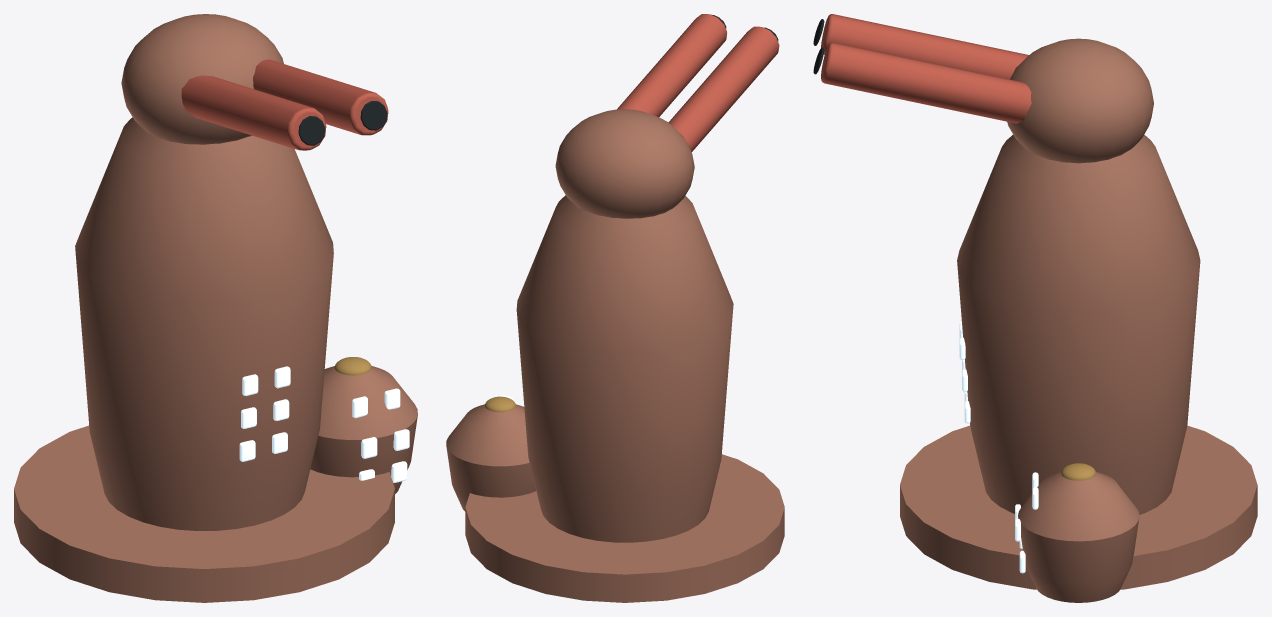
3 renders of one model, left to right at view 1: azimuth 30°, elevation 25°; view 2: azimuth 150°, elevation 25°; view 3: azimuth 270°, elevation 25°, orthographic. The views are drawn at different scales.
Visible parts, largest first — view 1: Bulb shaped chamber, Foundation drum, Weapon pivot, Bulb shaped chamber.001, Weapon barrel, Weapon barrel.001, Weapon dark bore.001, Weapon dark bore, Tower crown.001; view 2: Bulb shaped chamber, Foundation drum, Weapon pivot, Bulb shaped chamber.001, Weapon barrel, Weapon barrel.001; view 3: Bulb shaped chamber, Foundation drum, Weapon pivot, Bulb shaped chamber.001, Weapon barrel.001, Weapon barrel.
Boxes of the visible parts, bbox=[...] form: Bulb shaped chamber: bbox=[75, 117, 333, 530]; Foundation drum: bbox=[14, 425, 394, 602]; Weapon pivot: bbox=[121, 14, 283, 144]; Bulb shaped chamber.001: bbox=[310, 366, 417, 493]; Weapon barrel: bbox=[181, 75, 326, 150]; Weapon barrel.001: bbox=[253, 59, 388, 135]; Weapon dark bore.001: bbox=[360, 101, 387, 130]; Weapon dark bore: bbox=[298, 116, 325, 145]; Tower crown.001: bbox=[334, 357, 371, 375]; Bulb shaped chamber: bbox=[516, 195, 733, 542]; Foundation drum: bbox=[465, 454, 784, 602]; Weapon pivot: bbox=[555, 109, 694, 218]; Bulb shaped chamber.001: bbox=[446, 404, 536, 511]; Weapon barrel: bbox=[668, 26, 779, 151]; Weapon barrel.001: bbox=[617, 14, 727, 116]; Bulb shaped chamber: bbox=[957, 134, 1200, 514]; Foundation drum: bbox=[900, 425, 1257, 589]; Weapon pivot: bbox=[1007, 38, 1153, 163]; Bulb shaped chamber.001: bbox=[1018, 471, 1139, 602]; Weapon barrel.001: bbox=[821, 42, 1031, 123]; Weapon barrel: bbox=[821, 14, 1028, 79].
Bounding box in the file's own units: 2.29 × 3.06 × 2.53.
